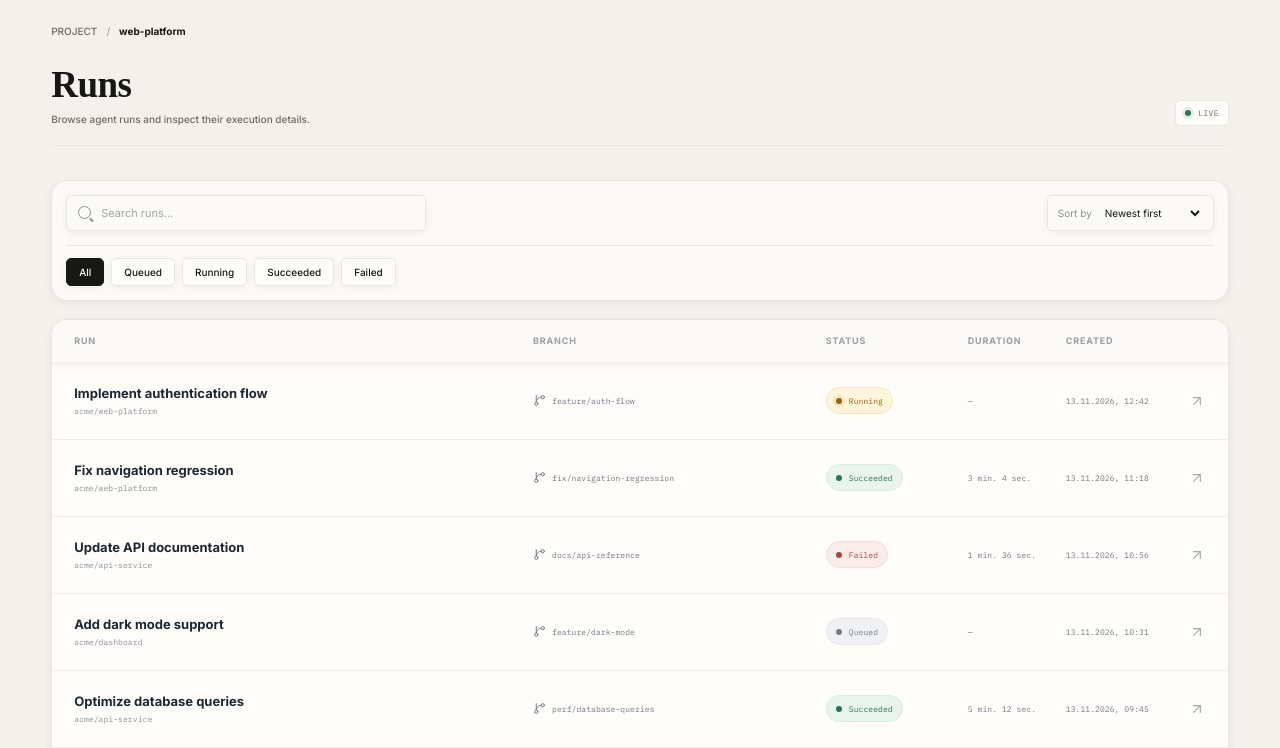
RunsPage › combines search and status filters
Expected: the text "Implement authentication flow" is shown, top-left (74, 385), bottom-right (268, 401)
Click the button "Failed" at (369, 272), box top-left (341, 258), bottom-right (396, 286)
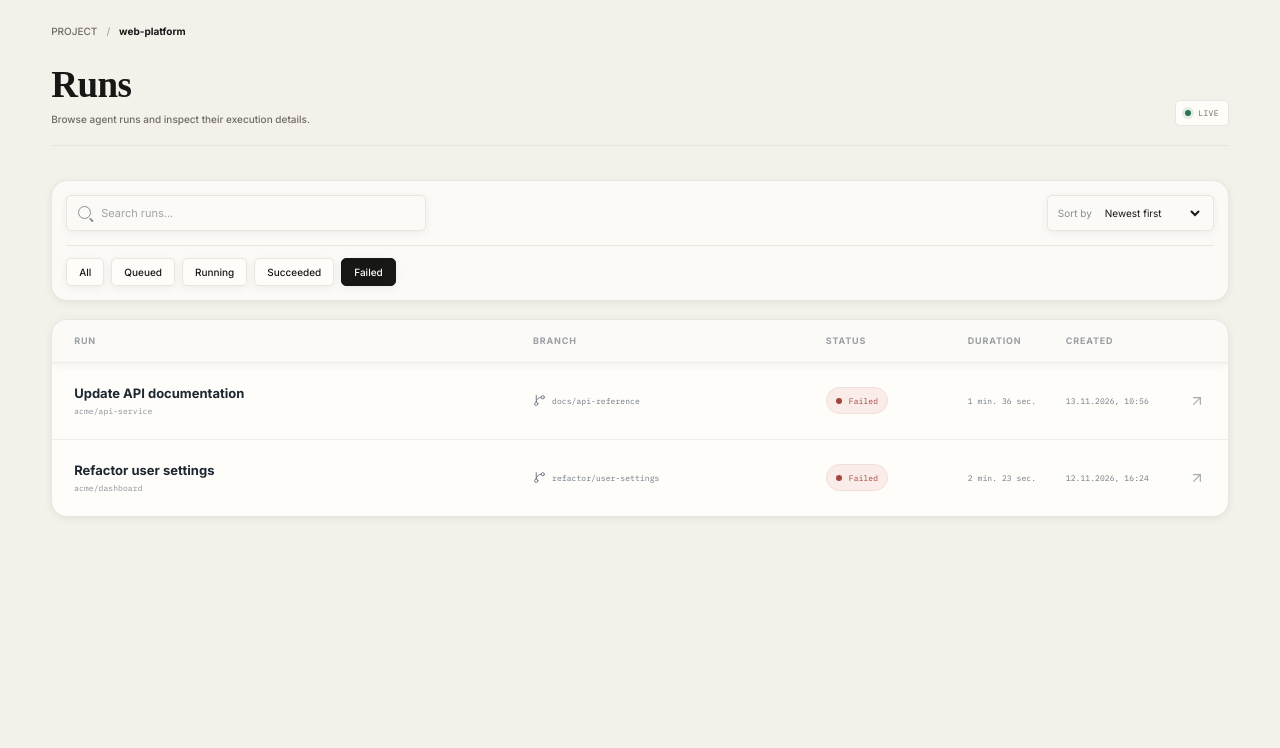
Type "api-service" into the search field named "Search runs by name or repository" at (258, 212), box top-left (101, 206), bottom-right (414, 220)
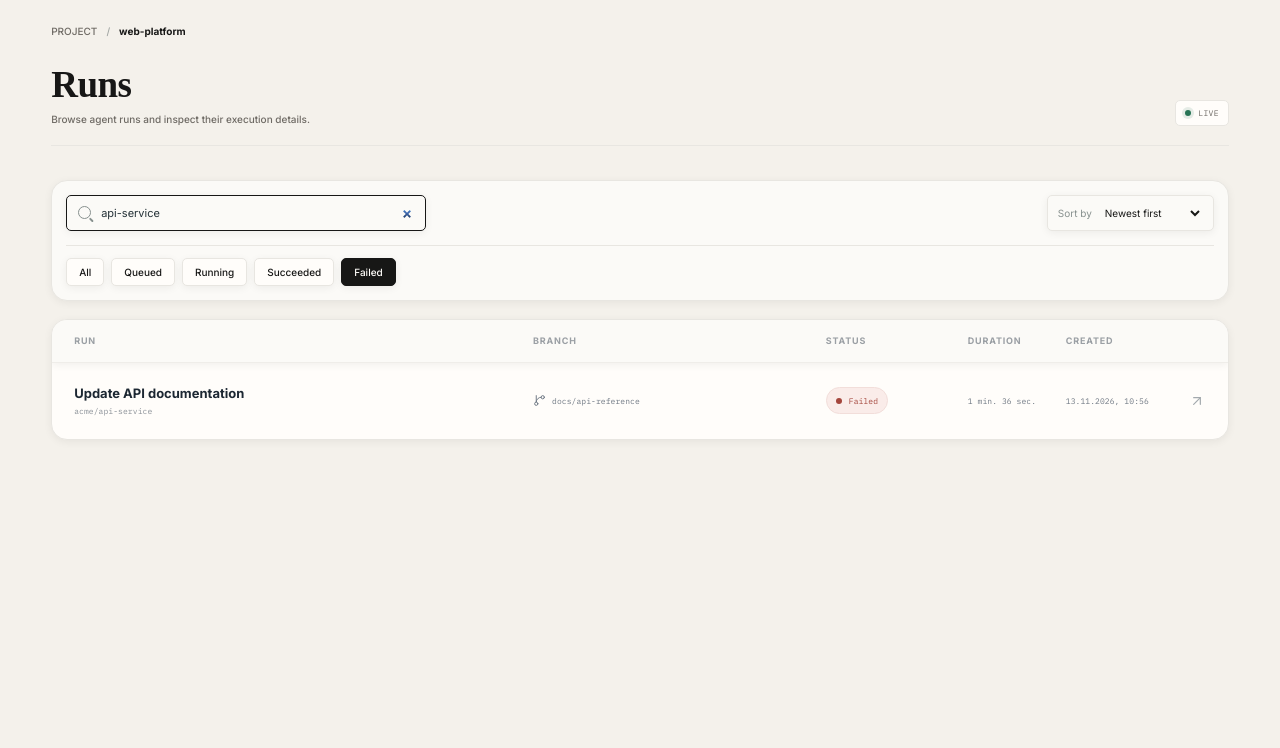
Expected: the text "Update API documentation" is shown, top-left (74, 385), bottom-right (244, 401)
Expected: the button "Refactor user settings" is gone
